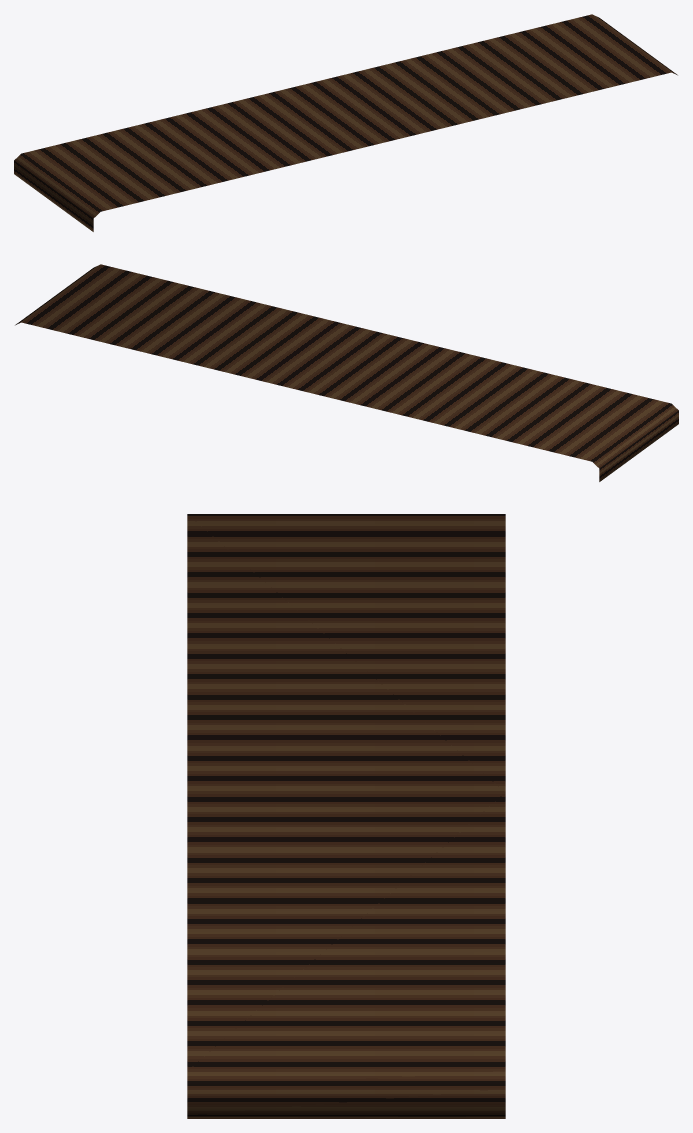
File: ConveyerLargeBelt.glb
3 views of the same model, one above another, from view 1: azimuth 30°, elevation 25°; view 2: azimuth 150°, elevation 25°; view 3: azimuth 270°, elevation 25° (orthographic). The views are drawn at different scales.
Visible parts, largest first — view 1: ConveyerLargeBelt; view 2: ConveyerLargeBelt; view 3: ConveyerLargeBelt.
Boxes of the visible parts, x1=… form: ConveyerLargeBelt: x1=14, y1=14, x2=677, y2=231; ConveyerLargeBelt: x1=15, y1=264, x2=678, y2=481; ConveyerLargeBelt: x1=187, y1=514, x2=505, y2=1118.
Bounding box in the file's own units: 5.13 × 0.2 × 1.21.
Materials: 1 (1 with a texture image).
